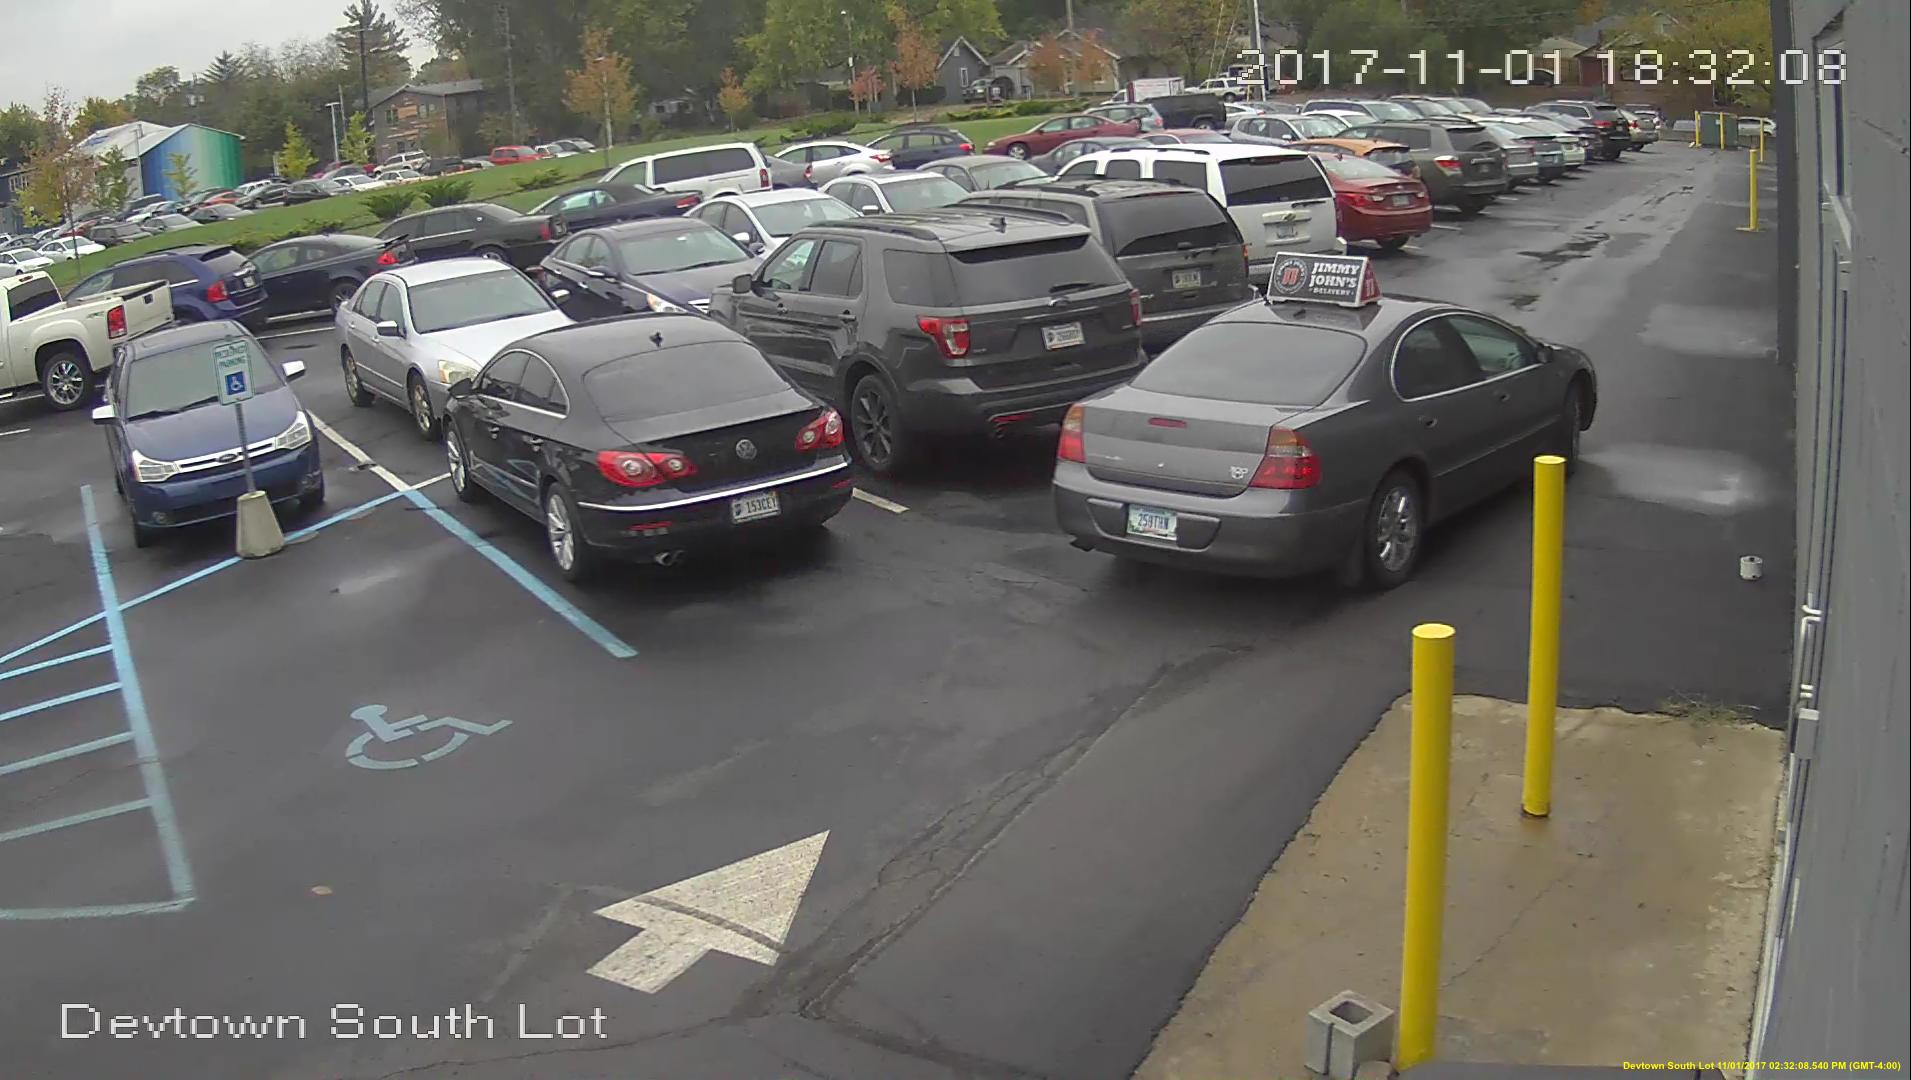jimmy_johns: (1264, 249, 1383, 318)
